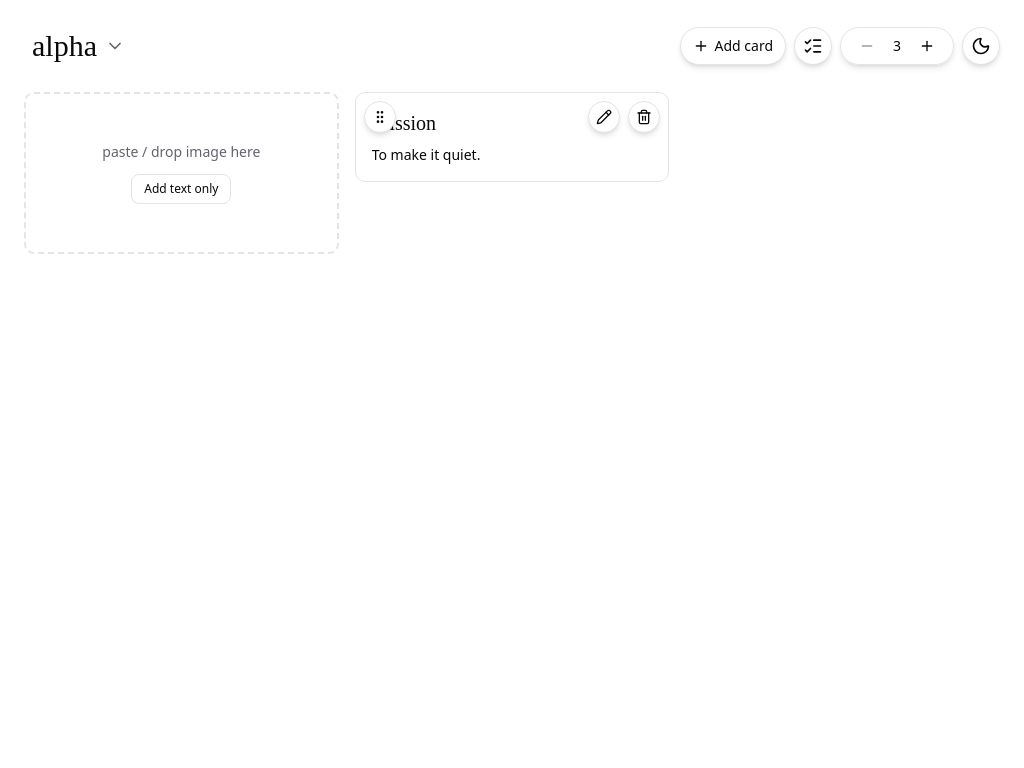
Test: the cards › hides the edit button in the select mode, as the delete button is
Expected: the button with aria-label "Brand" is shown, [24,24,133,68]
Click the button named "Select cards". click: (813, 46)
box: [794,27,832,65]
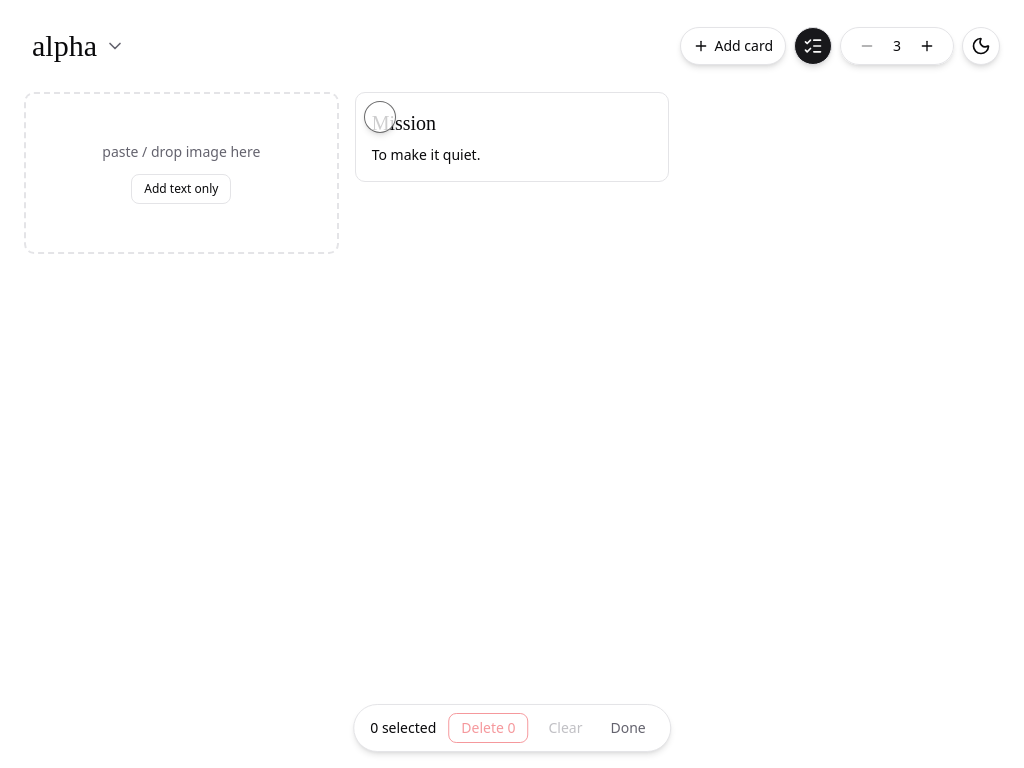
Expected: the checkbox named "Pick Mission" is shown, [364,101,396,133]
